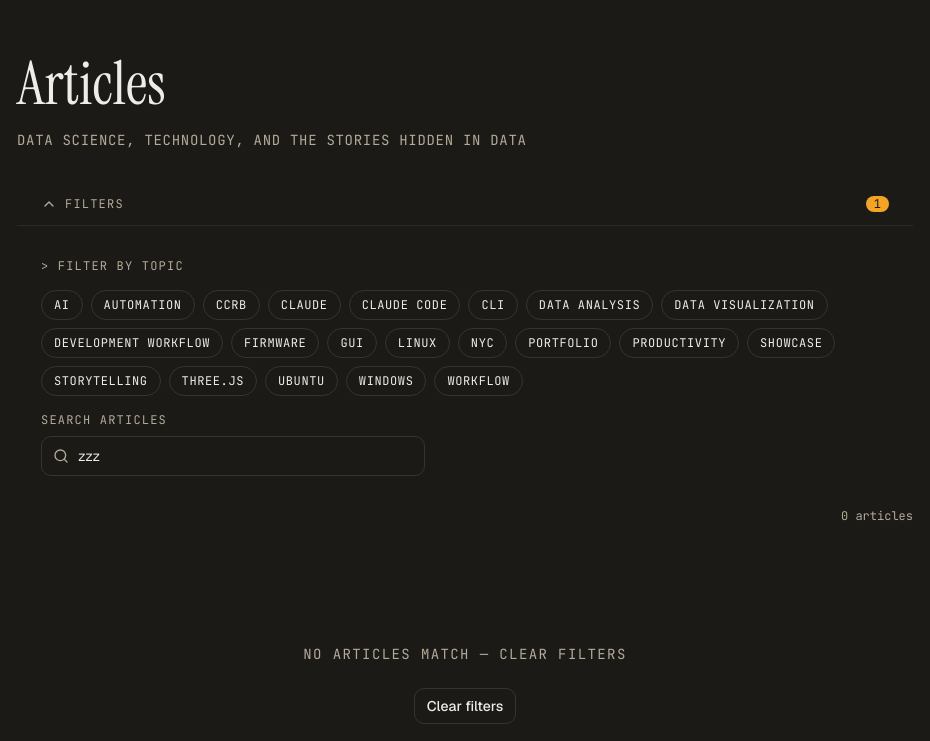
Test case: Articles page - filters › renders the empty state when nothing matches and clears from it
The image size is (930, 741).
Check: the text "No articles match — clear filters" is shown, box [303, 645, 627, 663]
Click the button "Clear filters" at {"x": 465, "y": 706}, box [414, 688, 516, 724]
(page scrolled)
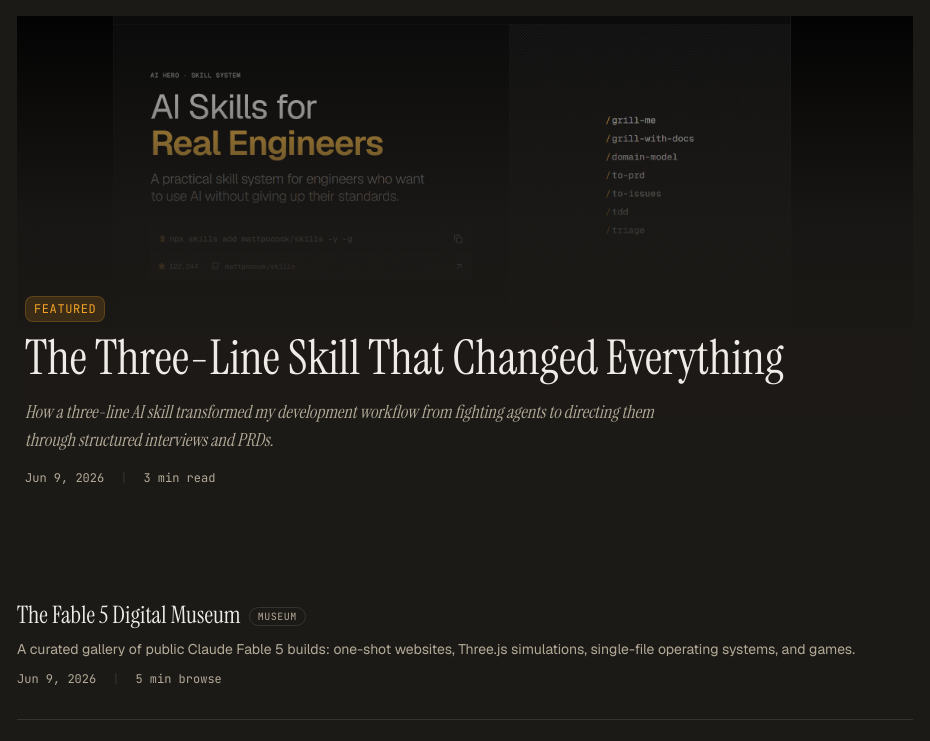
Check: the heading "The Three-Line Skill That Changed Everything" is shown, box [25, 334, 905, 382]
Check: the text "No articles match — clear filters" is gone
